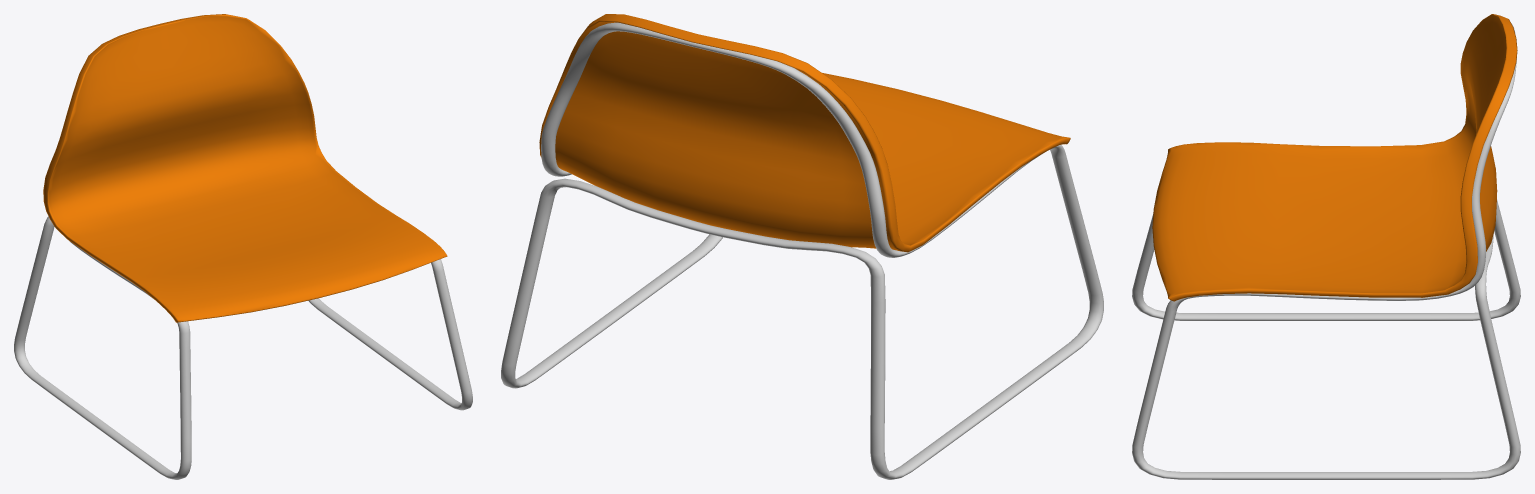
Rendered from sh-scopia-plastic-chair.glb.
3 renders of one model, left to right at view 1: azimuth 30°, elevation 25°; view 2: azimuth 150°, elevation 25°; view 3: azimuth 270°, elevation 25°, orthographic. The views are drawn at different scales.
Visible parts, largest first — view 1: Node; view 2: Node; view 3: Node.
Boxes of the visible parts, x1=… form: Node: x1=14, y1=14, x2=472, y2=479; Node: x1=501, y1=14, x2=1103, y2=479; Node: x1=1132, y1=14, x2=1520, y2=479.
Size of the model in its own units: 1 by 1 by 1.
